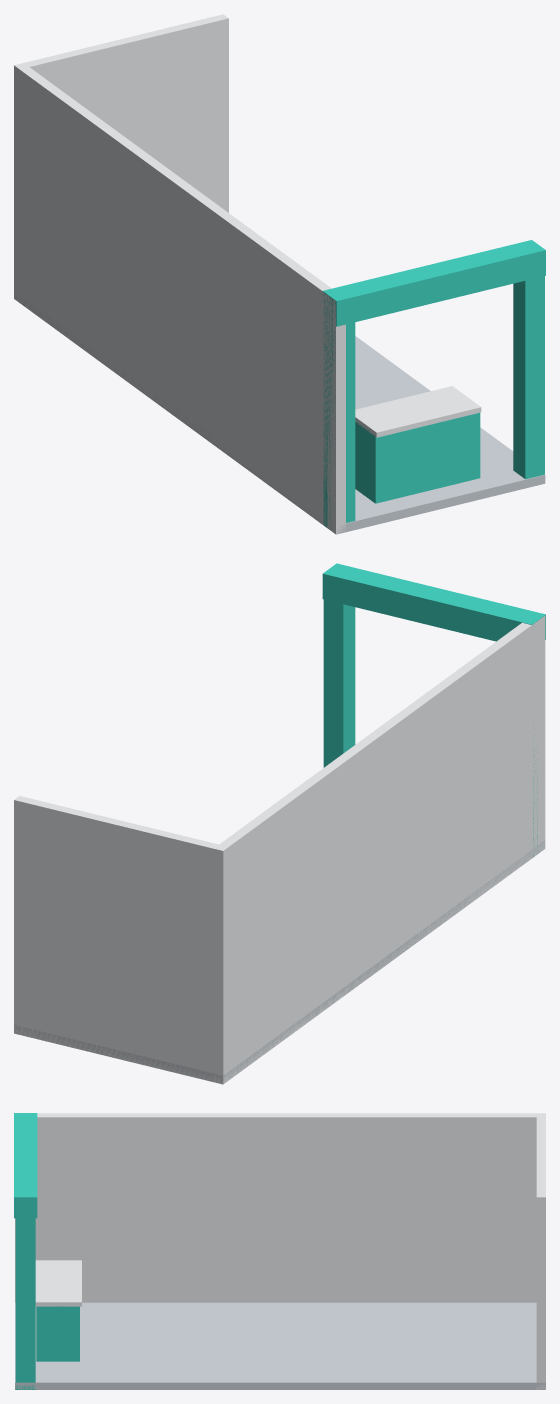
3 renders of one model, top to bottom at view 1: azimuth 30°, elevation 25°; view 2: azimuth 150°, elevation 25°; view 3: azimuth 270°, elevation 25°, orthographic. The views are drawn at different scales.
Visible parts, largest first — view 1: Exhibition Booth Concept; view 2: Exhibition Booth Concept; view 3: Exhibition Booth Concept.
Boxes of the visible parts, <box> form: Exhibition Booth Concept: <box>14,14,545,534</box>; Exhibition Booth Concept: <box>14,563,545,1084</box>; Exhibition Booth Concept: <box>14,1113,545,1389</box>.
Bounding box in the file's own units: 3 × 3.2 × 8.01.
